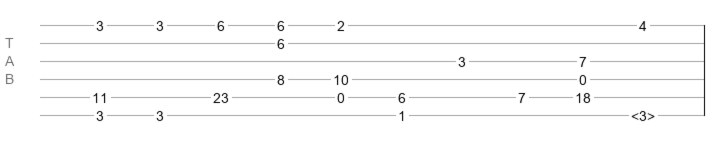0: (337, 90, 345, 100), (579, 72, 587, 82)
1: (398, 108, 406, 118)
10: (333, 72, 349, 82)
11: (92, 90, 108, 100)
18: (575, 90, 591, 100)
2: (337, 18, 345, 28)
23: (213, 90, 229, 100)
3: (96, 108, 104, 118), (96, 18, 104, 28), (156, 108, 164, 118), (156, 18, 164, 28), (458, 54, 466, 64)
4: (639, 18, 647, 28)
6: (217, 18, 225, 28), (277, 36, 285, 46), (277, 18, 285, 28), (398, 90, 406, 100)
7: (518, 90, 526, 100), (579, 54, 587, 64)
8: (277, 72, 285, 82)
harmonic: (631, 108, 655, 118)
